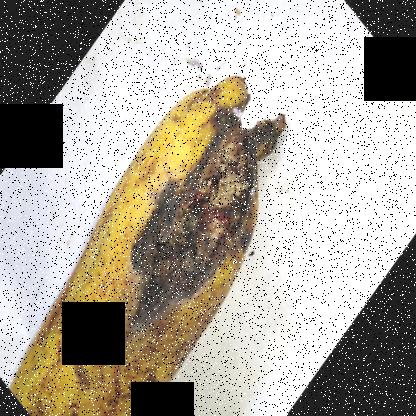ripe: (5, 329, 209, 416)
rotten: (129, 62, 272, 318)
